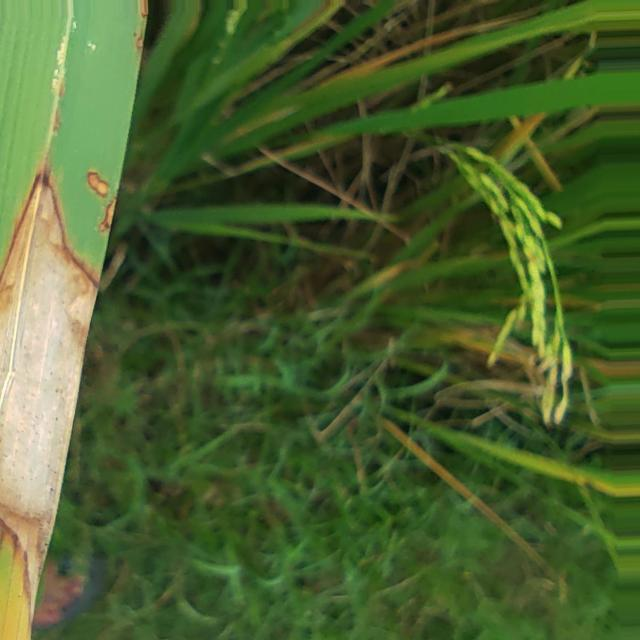Leaf_Blast: (381, 419, 542, 563), (316, 8, 539, 87)
Rice False Smut: (0, 173, 98, 613), (134, 0, 148, 56), (99, 198, 116, 232), (88, 172, 109, 197)
